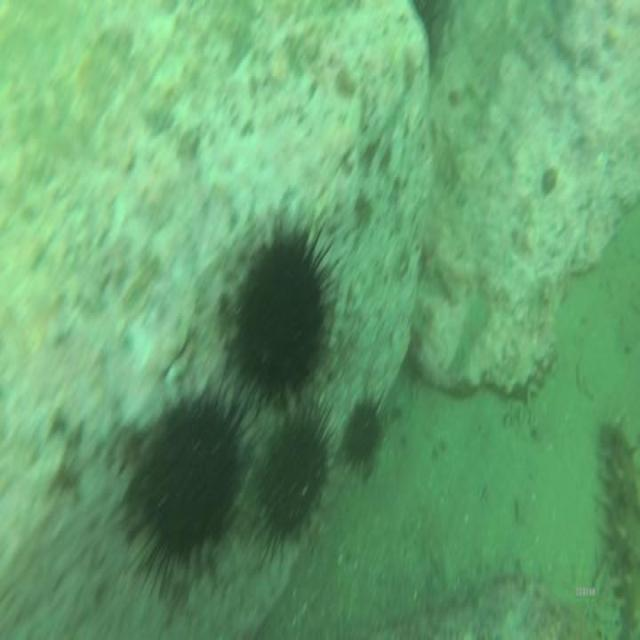echinus: (108, 371, 256, 607), (219, 204, 345, 412), (251, 386, 343, 567), (335, 384, 391, 488)
holothurian: (594, 411, 640, 640)
